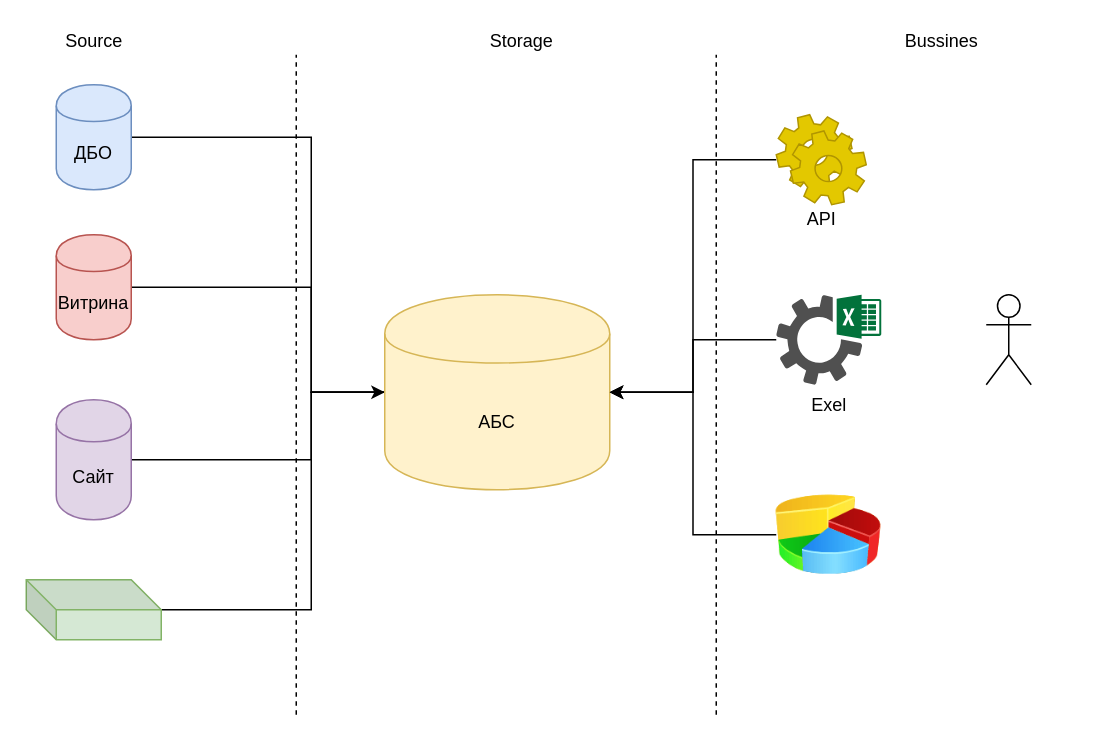
Image size: 1094x743. Some labels were removed from this diagram. Here are the shapes that lost their labels. From the top down, the centre of each, then its label:
pixel 1008 339: Пользователь
pixel 828 534: BI
pixel 93 609: Отделение
